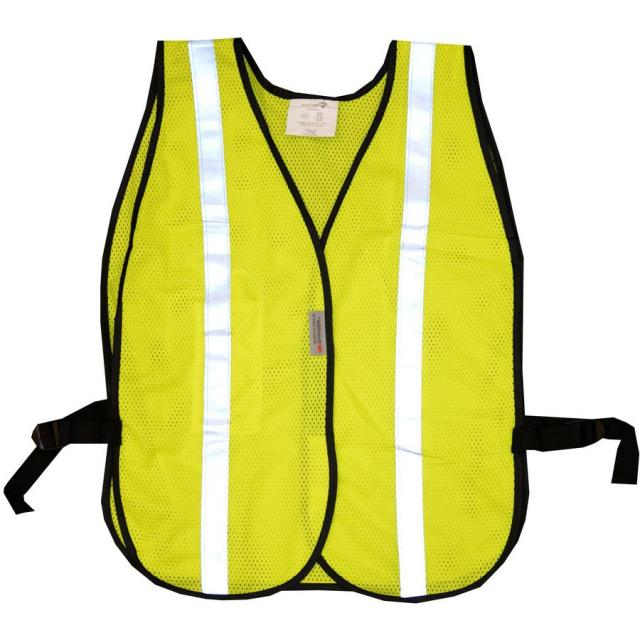Reflective-Jacket: (22, 16, 631, 613)
